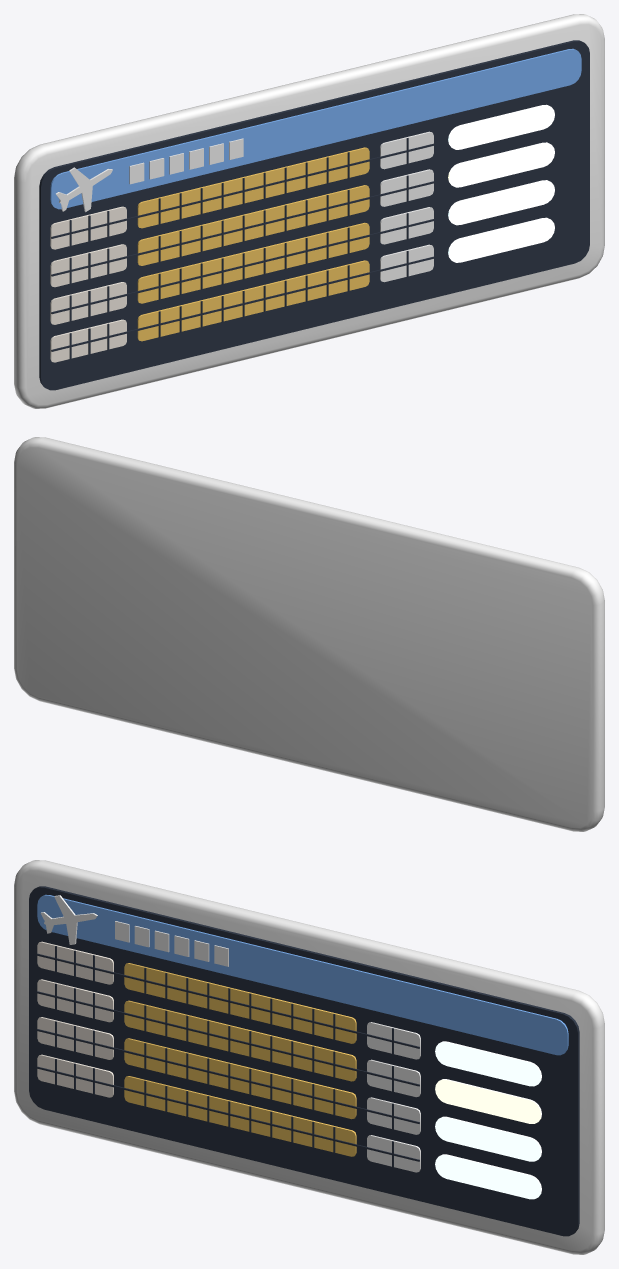
The model's file is departure_board.glb.
The picture shows the model from 3 angles, top to bottom: view 1: azimuth 30°, elevation 25°; view 2: azimuth 150°, elevation 25°; view 3: azimuth 330°, elevation 25°; orthographic projection.
Parts seen in each view (by area): view 1: departure_board; view 2: departure_board; view 3: departure_board.
Part boxes in pixels (x1,y1,x2,y2): departure_board: (14, 14, 604, 408); departure_board: (14, 437, 604, 831); departure_board: (14, 860, 604, 1254).
Size of the model in its own units: 3.1 by 1.32 by 0.113.
